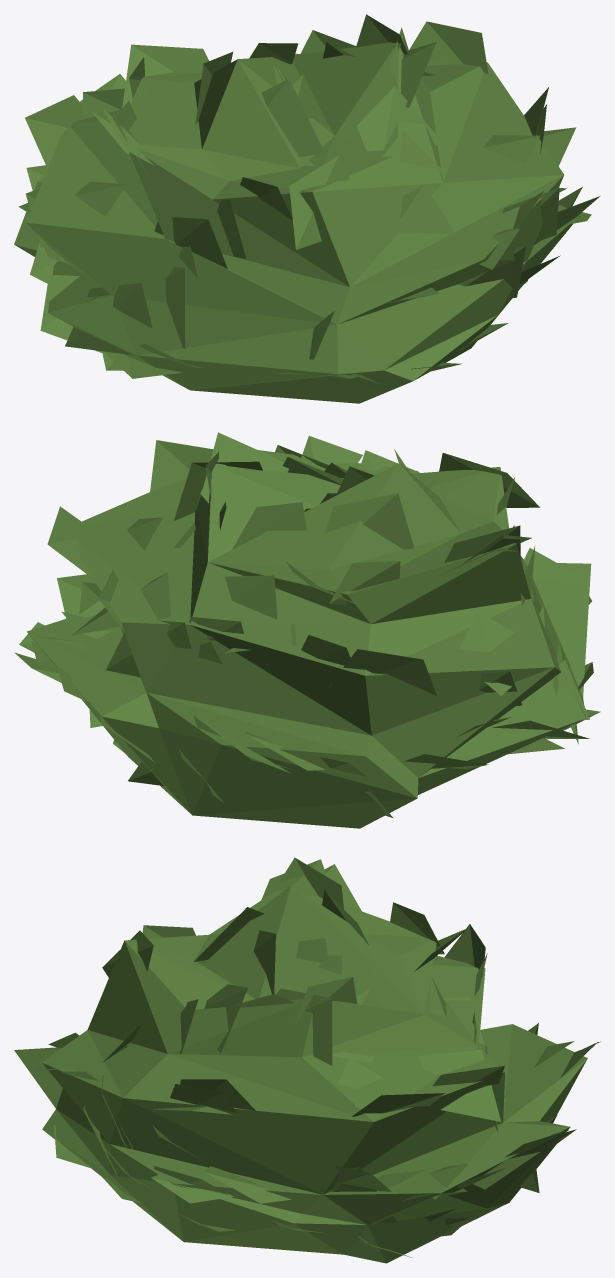
The model's file is SM_Bush_Random_Cabbage_Mature-_A.fbx.
3 views of the same model, one above another, from view 1: azimuth 30°, elevation 25°; view 2: azimuth 150°, elevation 25°; view 3: azimuth 270°, elevation 25° (orthographic). The views are drawn at different scales.
Visible parts, largest first — view 1: bush-random-cabbage-mature--a; view 2: bush-random-cabbage-mature--a; view 3: bush-random-cabbage-mature--a.
Part boxes in pixels (x1=…): bush-random-cabbage-mature--a: x1=14, y1=14, x2=600, y2=403; bush-random-cabbage-mature--a: x1=14, y1=432, x2=600, y2=828; bush-random-cabbage-mature--a: x1=14, y1=857, x2=600, y2=1263.
Bounding box in the file's own units: 1.06 × 0.6028 × 1.15.
